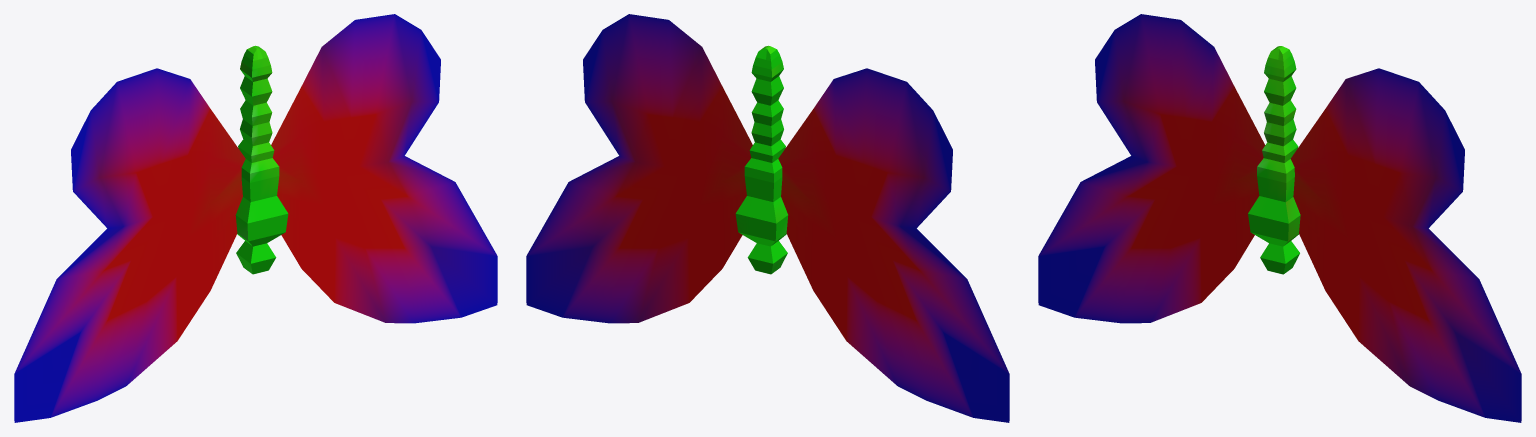
Rendered from Butterfly 2.1.fbx.
3 renders of one model, left to right at view 1: azimuth 30°, elevation 25°; view 2: azimuth 150°, elevation 25°; view 3: azimuth 330°, elevation 25°, orthographic.
Parts seen in each view (by area): view 1: Plane.001; view 2: Plane.001; view 3: Plane.001.
Boxes of the visible parts, box(x1,y1,x2,y2) form: Plane.001: box(14, 14, 497, 422); Plane.001: box(526, 14, 1009, 422); Plane.001: box(1038, 14, 1521, 422).
Bounding box in the file's own units: 994 × 636 × 84.1.
